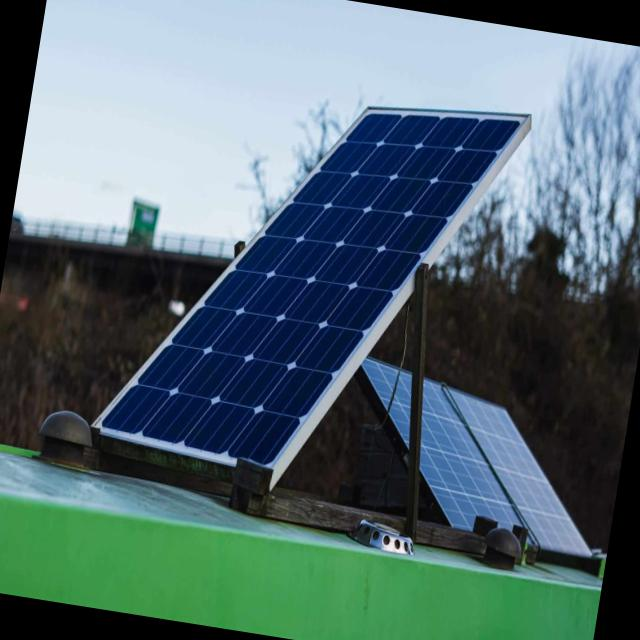no faulty: (96, 115, 521, 455)
